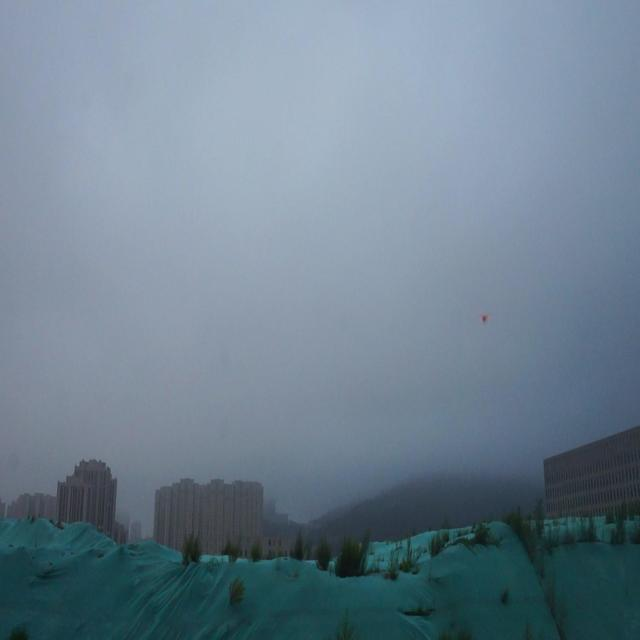drone: (480, 310, 490, 325)
